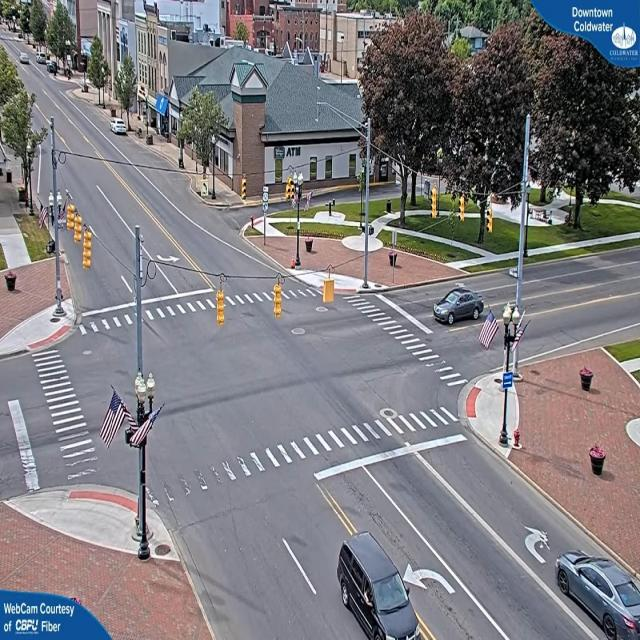car: (337, 534, 425, 640), (554, 554, 640, 639), (433, 287, 486, 326), (111, 120, 129, 136)
